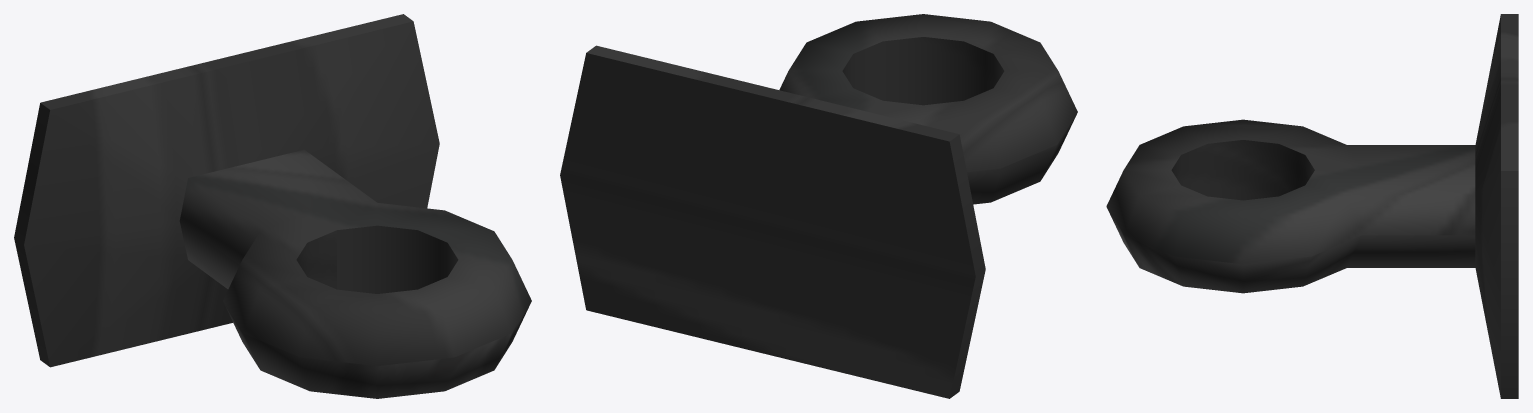
Rendered from PoleHolder1.fbx.
3 renders of one model, left to right at view 1: azimuth 30°, elevation 25°; view 2: azimuth 150°, elevation 25°; view 3: azimuth 270°, elevation 25°, orthographic. The views are drawn at different scales.
Visible parts, largest first — view 1: PoleHolder1; view 2: PoleHolder1; view 3: PoleHolder1.
Part boxes in pixels (left/top/right/bottom): PoleHolder1: left=14, top=14, right=531, bottom=398; PoleHolder1: left=560, top=14, right=1077, bottom=398; PoleHolder1: left=1106, top=14, right=1518, bottom=398.
Size of the model in its own units: 27.87 by 16.49 by 27.03.
